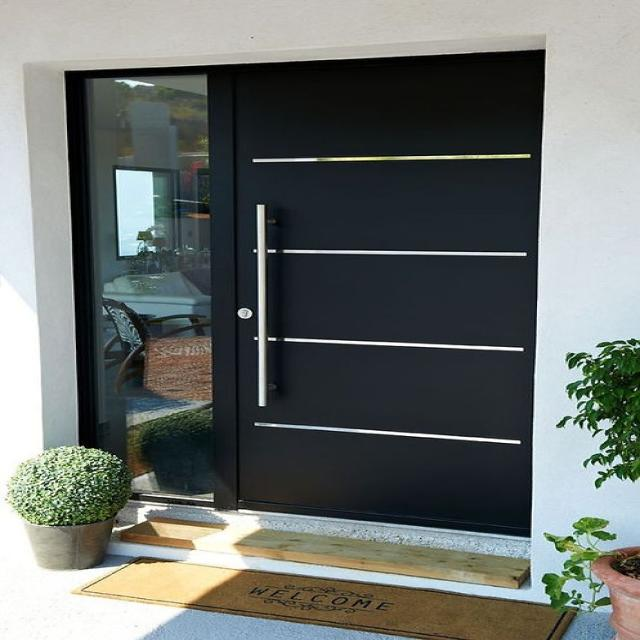door: (223, 51, 541, 538)
